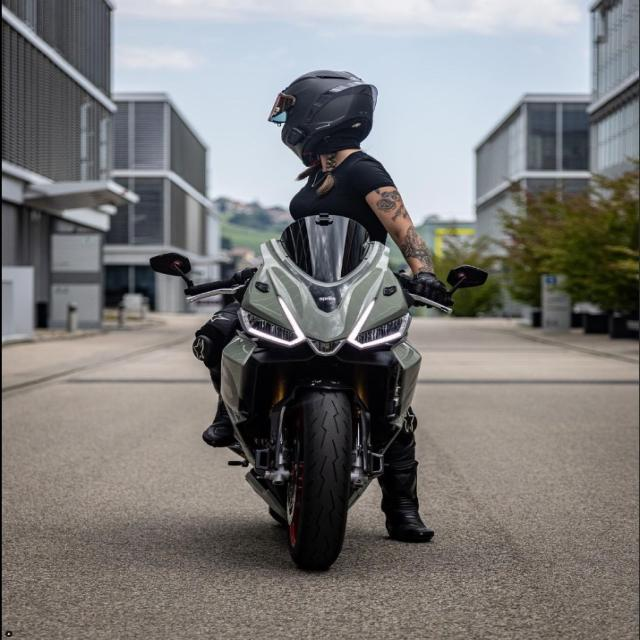helmet: (262, 65, 384, 171)
